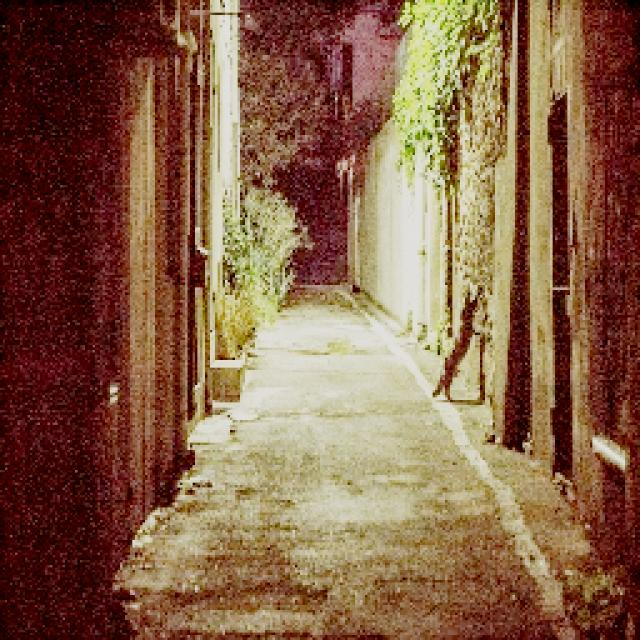cat: (423, 282, 493, 405)
